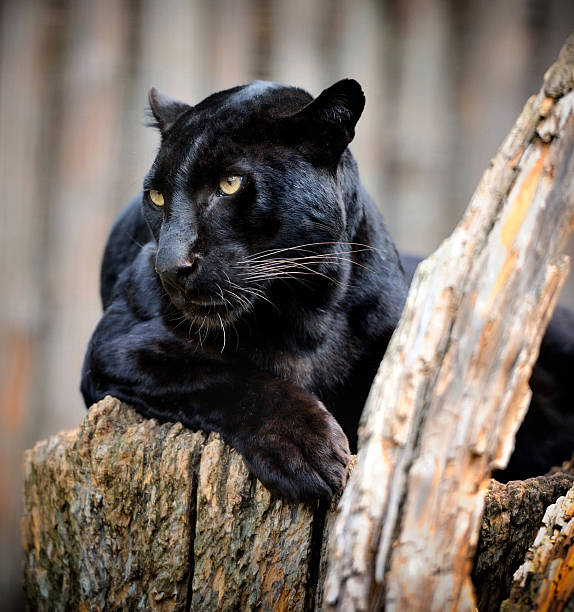panther: (111, 57, 373, 359)
